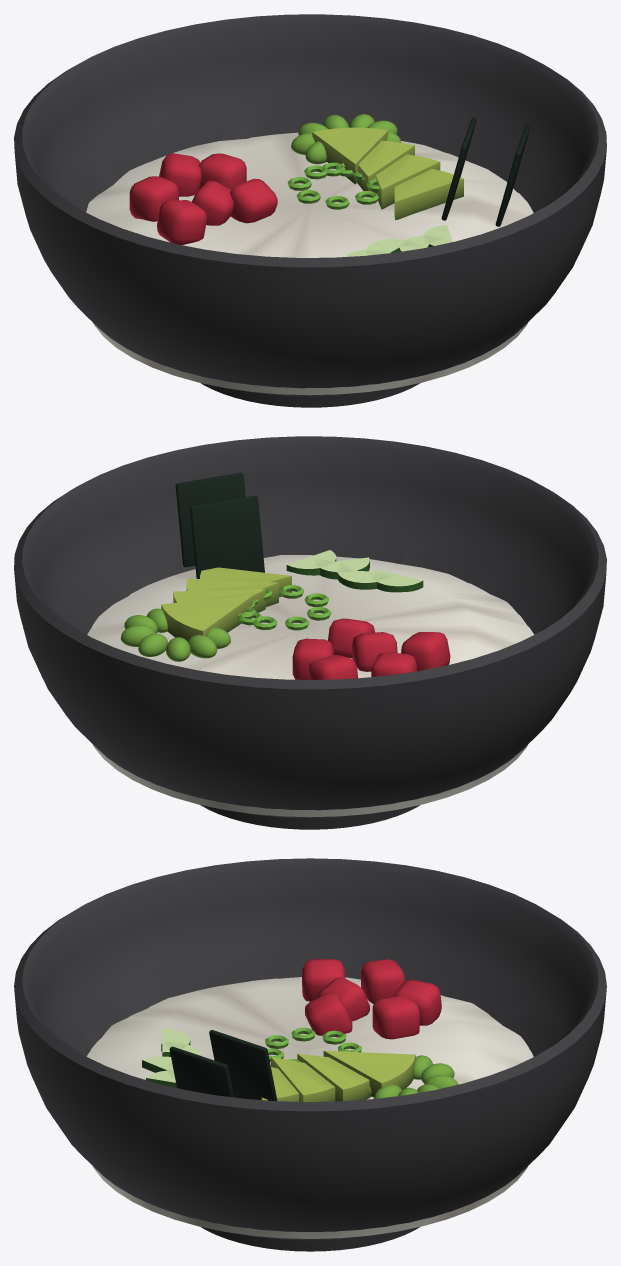
File: dish-poke-bowl-lod0.glb
The picture shows the model from 3 angles, top to bottom: view 1: azimuth 30°, elevation 25°; view 2: azimuth 150°, elevation 25°; view 3: azimuth 270°, elevation 25°; orthographic projection.
Parts seen in each view (by area): view 1: poke-bowl.lod0__table dark glaze, poke-bowl.lod0__food, poke-bowl.lod0__food glaze; view 2: poke-bowl.lod0__table dark glaze, poke-bowl.lod0__food, poke-bowl.lod0__food glaze; view 3: poke-bowl.lod0__table dark glaze, poke-bowl.lod0__food, poke-bowl.lod0__food glaze.
Boxes of the visible parts, box(x1,y1,x2,y2) form: poke-bowl.lod0__table dark glaze: box(14, 14, 606, 407); poke-bowl.lod0__food: box(86, 114, 533, 395); poke-bowl.lod0__food glaze: box(129, 153, 277, 244); poke-bowl.lod0__table dark glaze: box(14, 436, 606, 829); poke-bowl.lod0__food: box(87, 473, 534, 817); poke-bowl.lod0__food glaze: box(292, 618, 450, 679); poke-bowl.lod0__table dark glaze: box(14, 858, 606, 1251); poke-bowl.lod0__food: box(86, 977, 533, 1238); poke-bowl.lod0__food glaze: box(302, 959, 441, 1039).
Size of the model in its own units: 0.18 by 0.0722 by 0.18.
